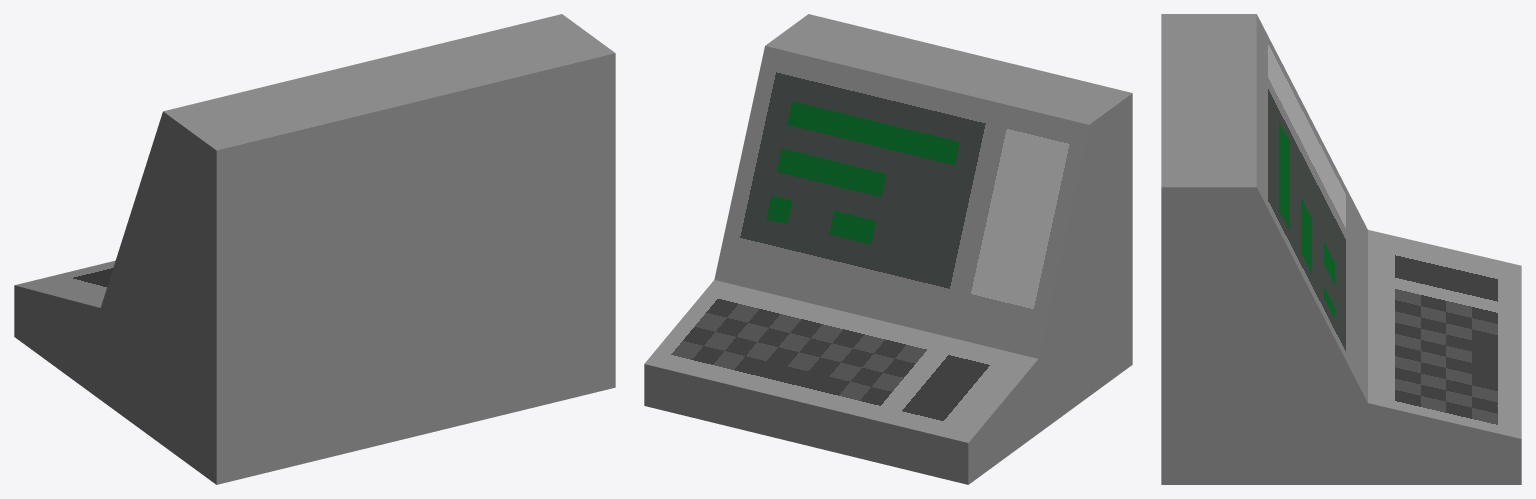
Rendered from terminal.obj.
3 views of the same model, side by side, from view 1: azimuth 30°, elevation 25°; view 2: azimuth 150°, elevation 25°; view 3: azimuth 270°, elevation 25° (orthographic). The views are drawn at different scales.
Parts seen in each view (by area): view 1: Cube; view 2: Cube; view 3: Cube.
Part boxes in pixels (x1,y1,x2,y2): Cube: [14, 14, 615, 484]; Cube: [644, 14, 1132, 484]; Cube: [1161, 14, 1521, 484].
Bounding box in the file's own units: 1 × 0.8007 × 0.878.
